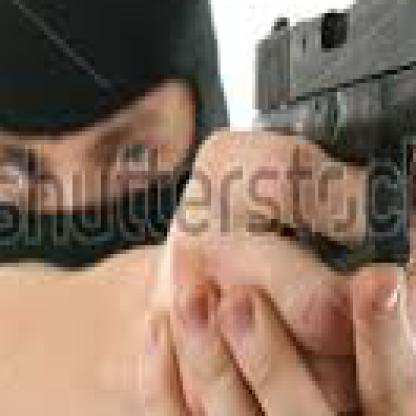gun: (233, 0, 413, 311)
